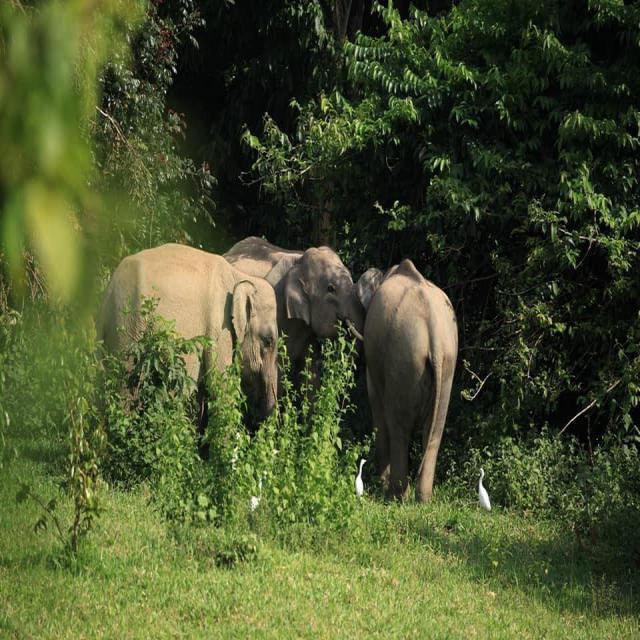Elephant: (98, 242, 280, 454), (363, 239, 468, 529), (234, 202, 360, 394)
